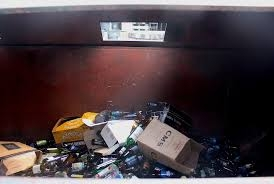glass: (117, 122, 146, 154), (89, 156, 122, 178), (68, 159, 92, 173)
paper: (137, 117, 205, 175), (1, 136, 48, 176), (48, 110, 100, 146), (100, 117, 140, 153)
